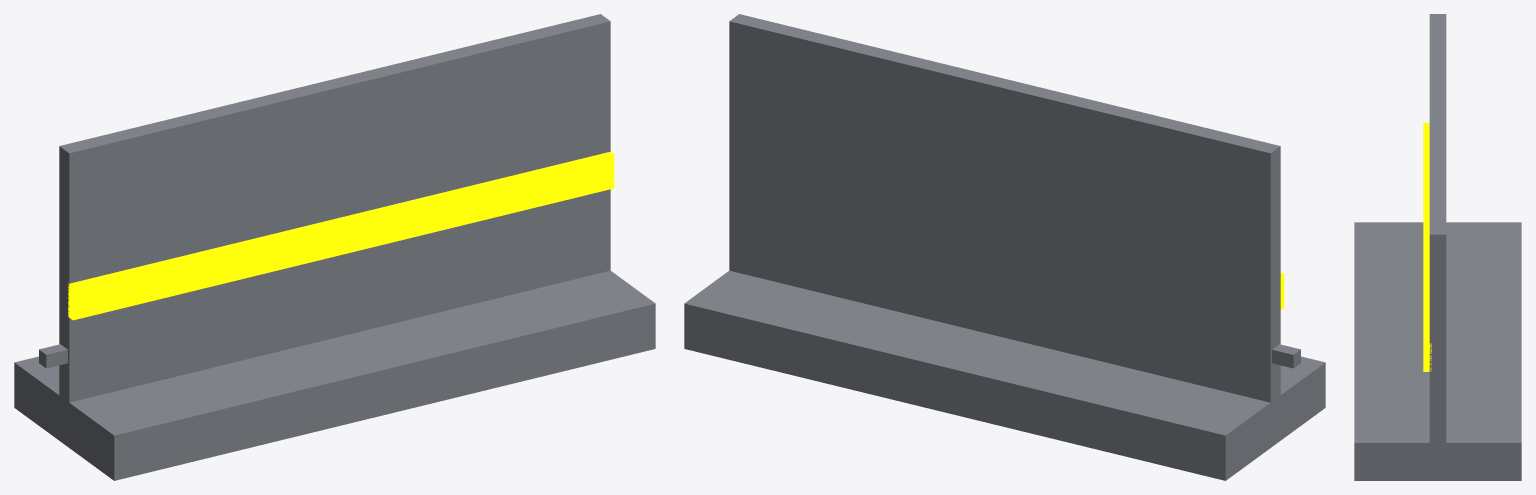
The model's file is PROP_Barricade_Metal.glb.
3 renders of one model, left to right at view 1: azimuth 30°, elevation 25°; view 2: azimuth 150°, elevation 25°; view 3: azimuth 270°, elevation 25°, orthographic. The views are drawn at different scales.
Visible parts, largest first — view 1: PROP_Barricade_Metal; view 2: PROP_Barricade_Metal; view 3: PROP_Barricade_Metal.
Boxes of the visible parts, <box> form: PROP_Barricade_Metal: <box>14,14,655,480</box>; PROP_Barricade_Metal: <box>684,14,1325,480</box>; PROP_Barricade_Metal: <box>1354,14,1521,480</box>.
Bounding box in the file's own units: 2.6 × 1.3 × 0.8.
